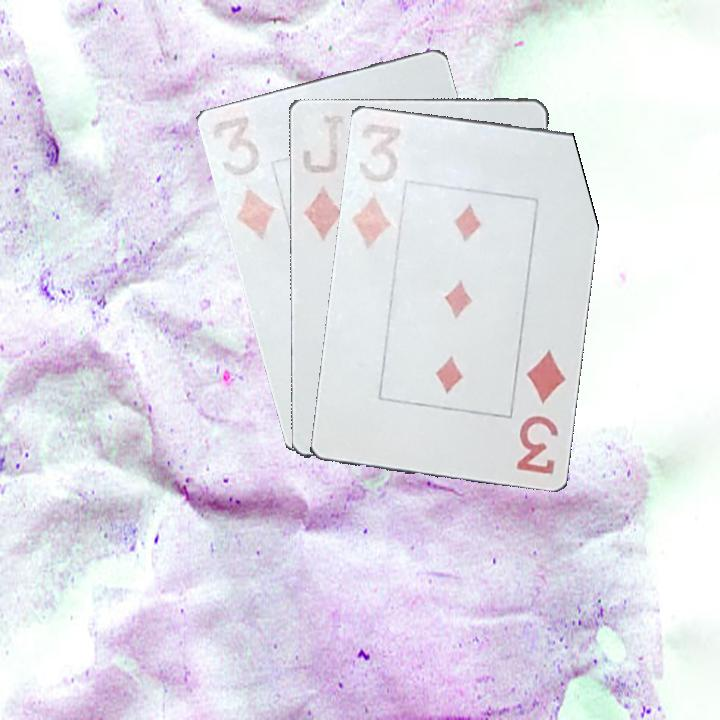3d: (208, 106, 284, 242), (347, 118, 408, 251), (512, 346, 571, 477)
Jd: (297, 108, 346, 243)
